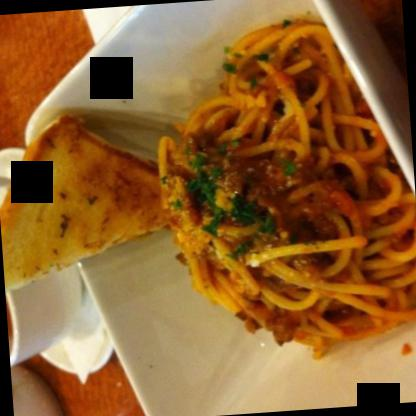pasta: (143, 23, 415, 359)
